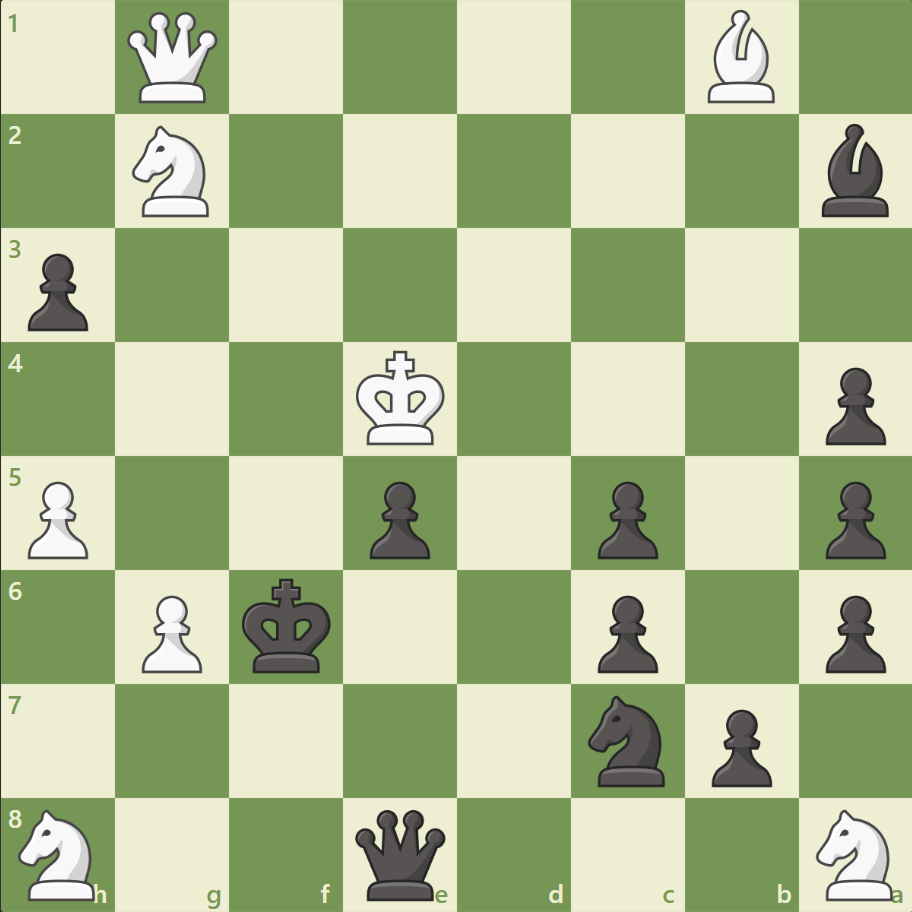B: (698, 6, 782, 109)
K: (351, 344, 451, 452)
N: (124, 121, 222, 223), (806, 802, 903, 904), (11, 802, 108, 904)
P: (133, 586, 208, 677), (20, 473, 95, 564)
Q: (124, 9, 223, 108)
b: (812, 120, 896, 222)
k: (238, 571, 338, 679)
n: (579, 688, 676, 791)
p: (701, 700, 776, 791), (20, 246, 95, 337), (815, 586, 889, 677), (588, 586, 662, 677), (815, 473, 889, 564), (588, 473, 662, 564), (361, 473, 435, 564), (815, 359, 889, 450)
q: (351, 804, 450, 903)
